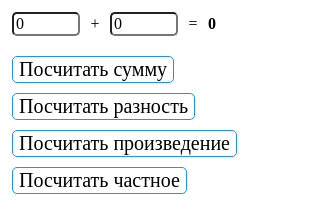
it: external handlers enabled › renders component with all 4 external handlers
The width and height of the screenshot is (332, 211).
Step 1. Click the button "Посчитать разность" → (104, 107), box [12,93,195,120]
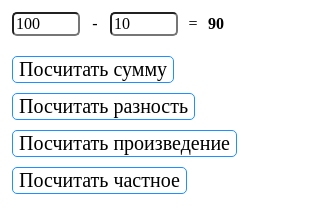
Expected: the text with class "arithmetic-symbol" reads "-", [92,15,98,32]
Expected: the text with class "result" reads "90", [208,15,224,32]
